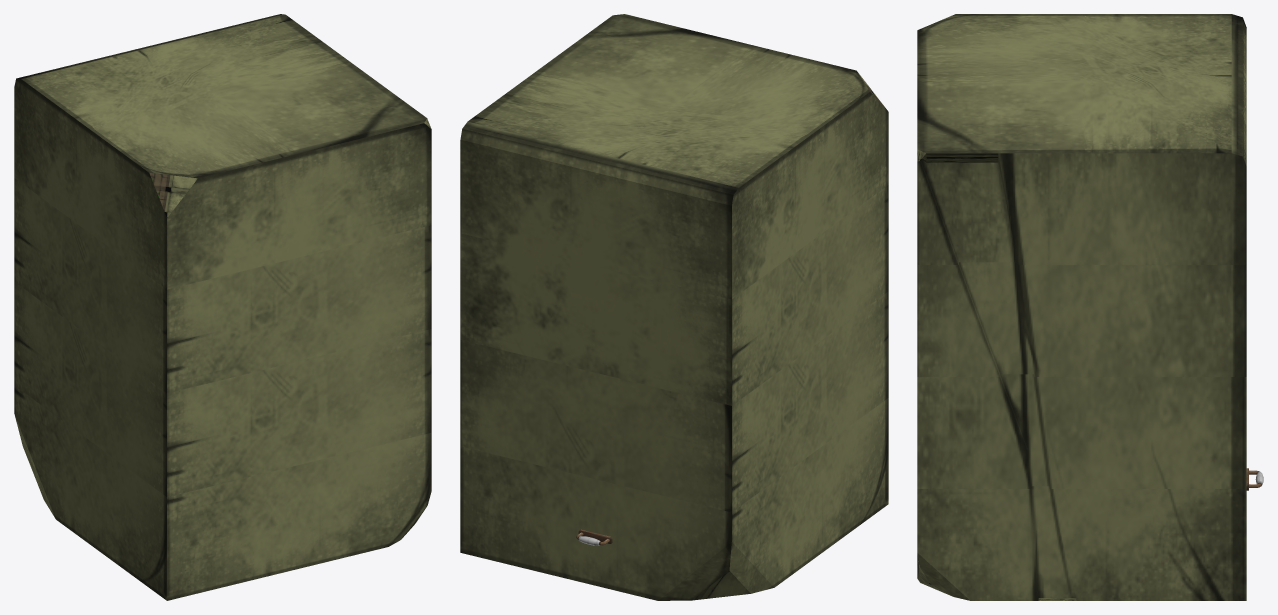
Rendered from highpolycuboid.FBX.
3 renders of one model, left to right at view 1: azimuth 30°, elevation 25°; view 2: azimuth 150°, elevation 25°; view 3: azimuth 270°, elevation 25°, orthographic. The views are drawn at different scales.
Parts seen in each view (by area): view 1: Object; view 2: Object; view 3: Object.
Boxes of the visible parts, left/top/right/bottom form: Object: left=14, top=14, right=431, bottom=600; Object: left=460, top=14, right=888, bottom=600; Object: left=917, top=14, right=1263, bottom=600.
Size of the model in its own units: 80 by 120 by 84.16.
